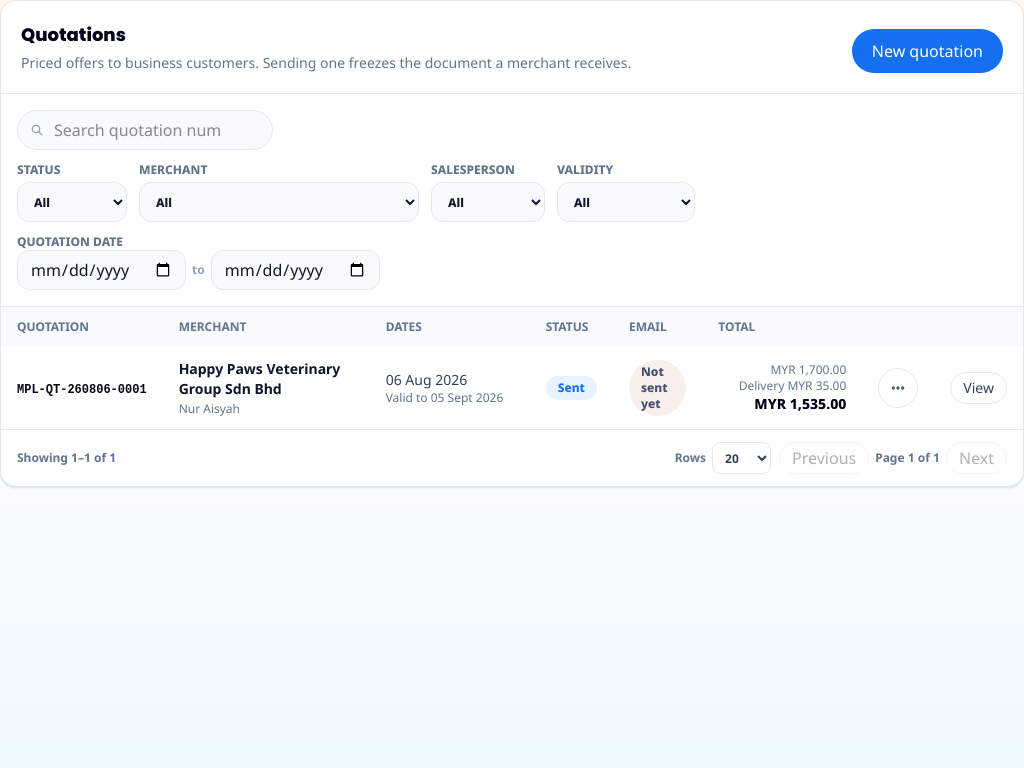
Test: Quotation lifecycle › offers Accept, Reject and Cancel once sent
Click the button named "Actions for MPL-QT-260806-0001": (898, 388) [878, 368, 918, 408]
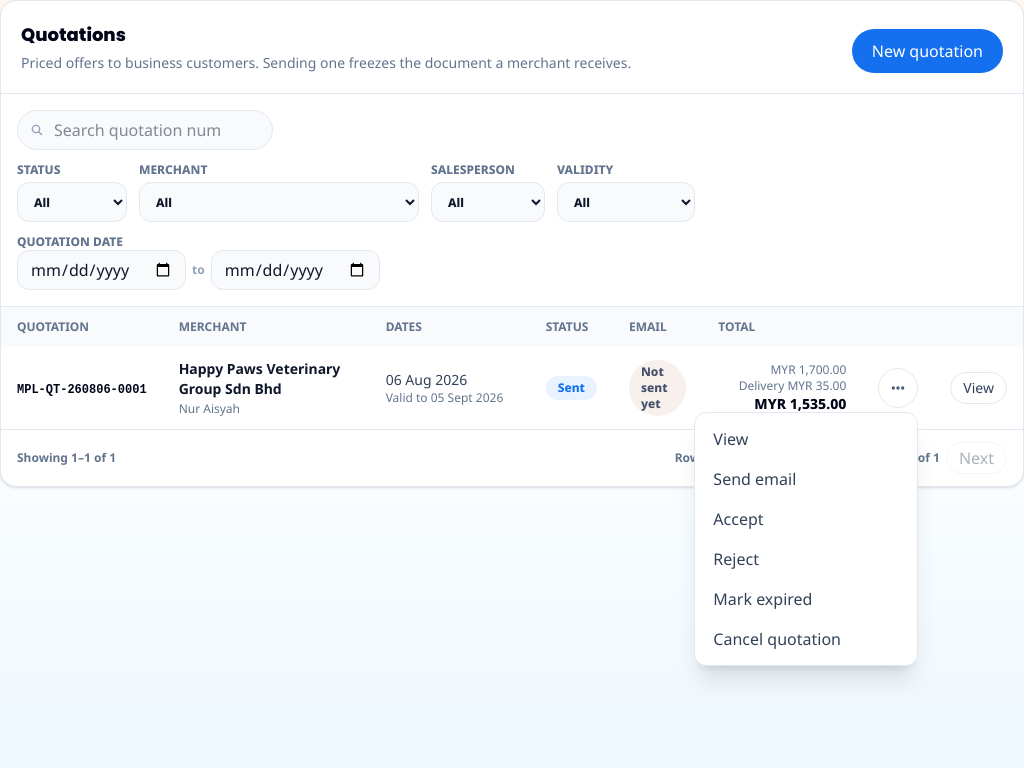
Now the menu item "Accept" is shown, box [701, 499, 911, 539]
Now the menu item "Reject" is shown, box [701, 539, 911, 579]
Now the menu item "Cancel quotation" is shown, box [701, 619, 911, 659]
